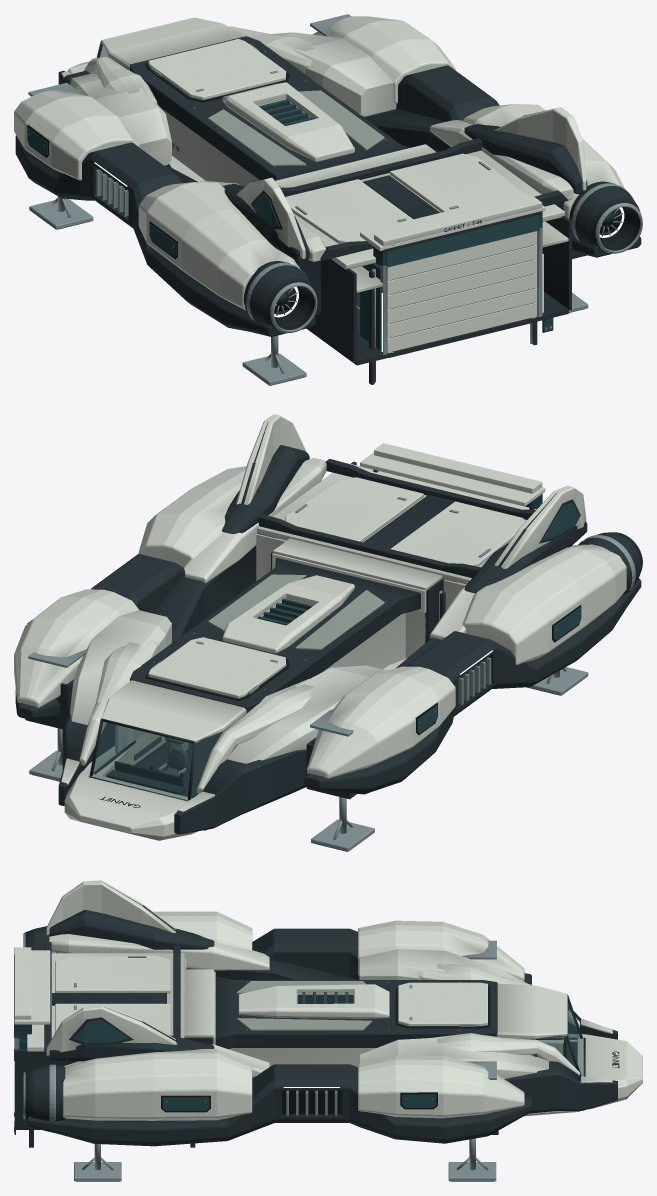
Rendered from gannet.glb.
The picture shows the model from 3 angles, top to bottom: view 1: azimuth 30°, elevation 25°; view 2: azimuth 150°, elevation 25°; view 3: azimuth 270°, elevation 25°; orthographic projection. The views are drawn at different scales.
Parts seen in each view (by area): view 1: OuterHull / Gannet / original Meridian PBR Geometry, Cabin / Gannet / original Meridian PBR Geometry, HatchSlat_5 / Gannet / original Meridian PBR Geometry, HatchSlat_2 / Gannet / original Meridian PBR Geometry, HatchSlat_4 / Gannet / original Meridian PBR Geometry, HatchSlat_1 / Gannet / original Meridian PBR Geometry, HatchSlat_3 / Gannet / original Meridian PBR Geometry, HatchSlat_6 / Gannet / original Meridian PBR Geometry, Gear_Port_Aft / Gannet / original Meridian PBR Geometry, Gear_Port_Fore / Gannet / original Meridian PBR Geometry, LiftDeck Geometry, OuterHull / Gannet restrained mint emitters Geometry; view 2: OuterHull / Gannet / original Meridian PBR Geometry, Cabin / Gannet / original Meridian PBR Geometry, Cabin / Gannet pressure glazing Geometry, CabinFloor Geometry, Gear_Port_Fore / Gannet / original Meridian PBR Geometry, Gear_Port_Aft / Gannet / original Meridian PBR Geometry, Gear_Starboard_Fore / Gannet / original Meridian PBR Geometr; view 3: OuterHull / Gannet / original Meridian PBR Geometry, Cabin / Gannet / original Meridian PBR Geometry, Gear_Starboard_Fore / Gannet / original Meridian PBR Geometr, Gear_Starboard_Aft / Gannet / original Meridian PBR Geometry, Cabin / Gannet pressure glazing Geometry.
Boxes of the visible parts, x1,y1,x2,y2 form: OuterHull / Gannet / original Meridian PBR Geometry: (14,14,642,384); Cabin / Gannet / original Meridian PBR Geometry: (96,40,568,365); HatchSlat_5 / Gannet / original Meridian PBR Geometry: (387,244,537,295); HatchSlat_2 / Gannet / original Meridian PBR Geometry: (387,288,537,338); HatchSlat_4 / Gannet / original Meridian PBR Geometry: (387,259,537,309); HatchSlat_1 / Gannet / original Meridian PBR Geometry: (387,302,537,352); HatchSlat_3 / Gannet / original Meridian PBR Geometry: (387,273,537,324); HatchSlat_6 / Gannet / original Meridian PBR Geometry: (387,231,537,280); Gear_Port_Aft / Gannet / original Meridian PBR Geometry: (242,335,306,385); Gear_Port_Fore / Gannet / original Meridian PBR Geometry: (29,196,93,229); LiftDeck Geometry: (356,263,537,357); OuterHull / Gannet restrained mint emitters Geometry: (94,73,624,351); OuterHull / Gannet / original Meridian PBR Geometry: (14,414,642,840); Cabin / Gannet / original Meridian PBR Geometry: (88,552,443,801); Cabin / Gannet pressure glazing Geometry: (92,722,226,799); CabinFloor Geometry: (134,726,230,797); Gear_Port_Fore / Gannet / original Meridian PBR Geometry: (311,797,374,851); Gear_Port_Aft / Gannet / original Meridian PBR Geometry: (527,667,588,695); Gear_Starboard_Fore / Gannet / original Meridian PBR Geometr: (29,728,62,781); OuterHull / Gannet / original Meridian PBR Geometry: (14,880,642,1147); Cabin / Gannet / original Meridian PBR Geometry: (14,994,585,1129); Gear_Starboard_Fore / Gannet / original Meridian PBR Geometr: (448,1138,496,1181); Gear_Starboard_Aft / Gannet / original Meridian PBR Geometry: (74,1144,121,1181); Cabin / Gannet pressure glazing Geometry: (531,1001,583,1075).
Bounding box in the file's own units: 15.69 × 7.17 × 24.
Materials: 7 (2 with a texture image).
